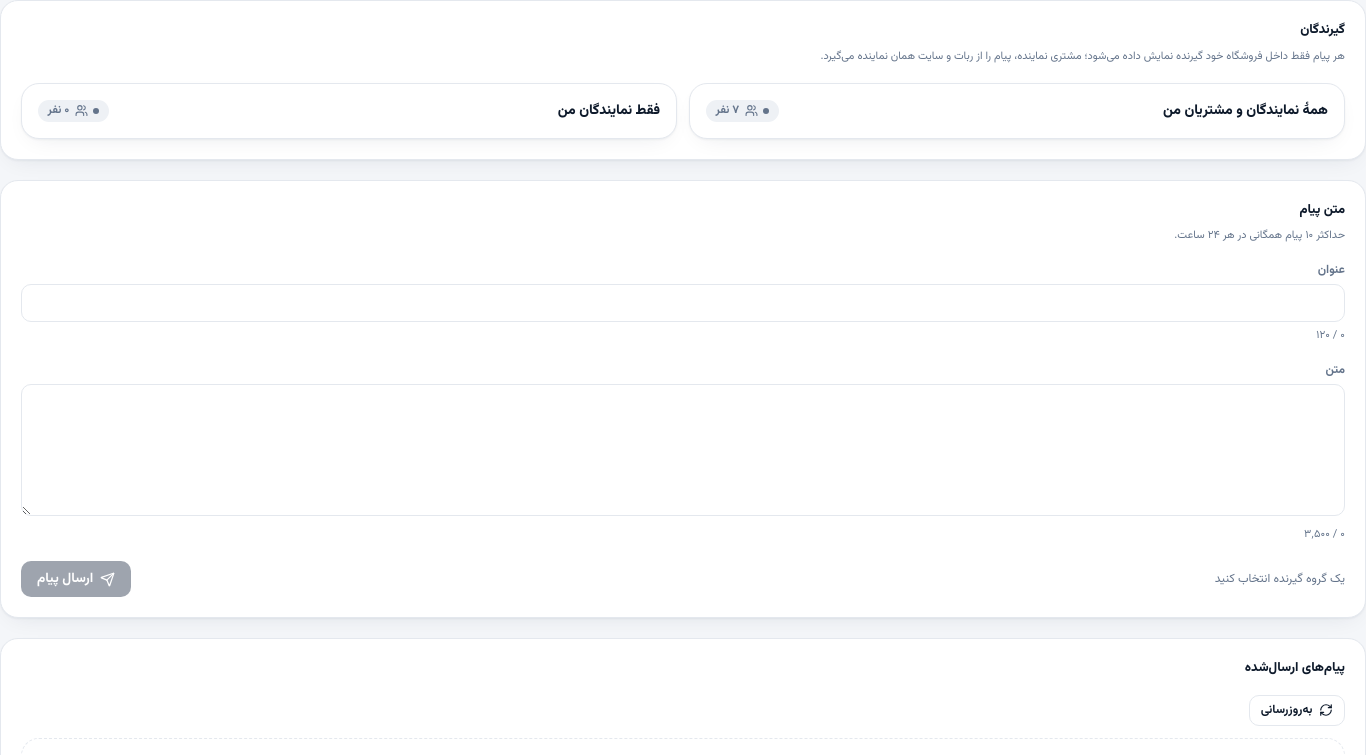
Test case: admin broadcast (پیام همگانی) › shows Core's refusal (e.g. the daily limit) instead of pretending it was sent
The image size is (1366, 755).
Click the radio button labelled "همهٔ نمایندگان و مشتریان من ۷ نفر" at (1246, 111), box top-left (689, 82), bottom-right (1345, 138)
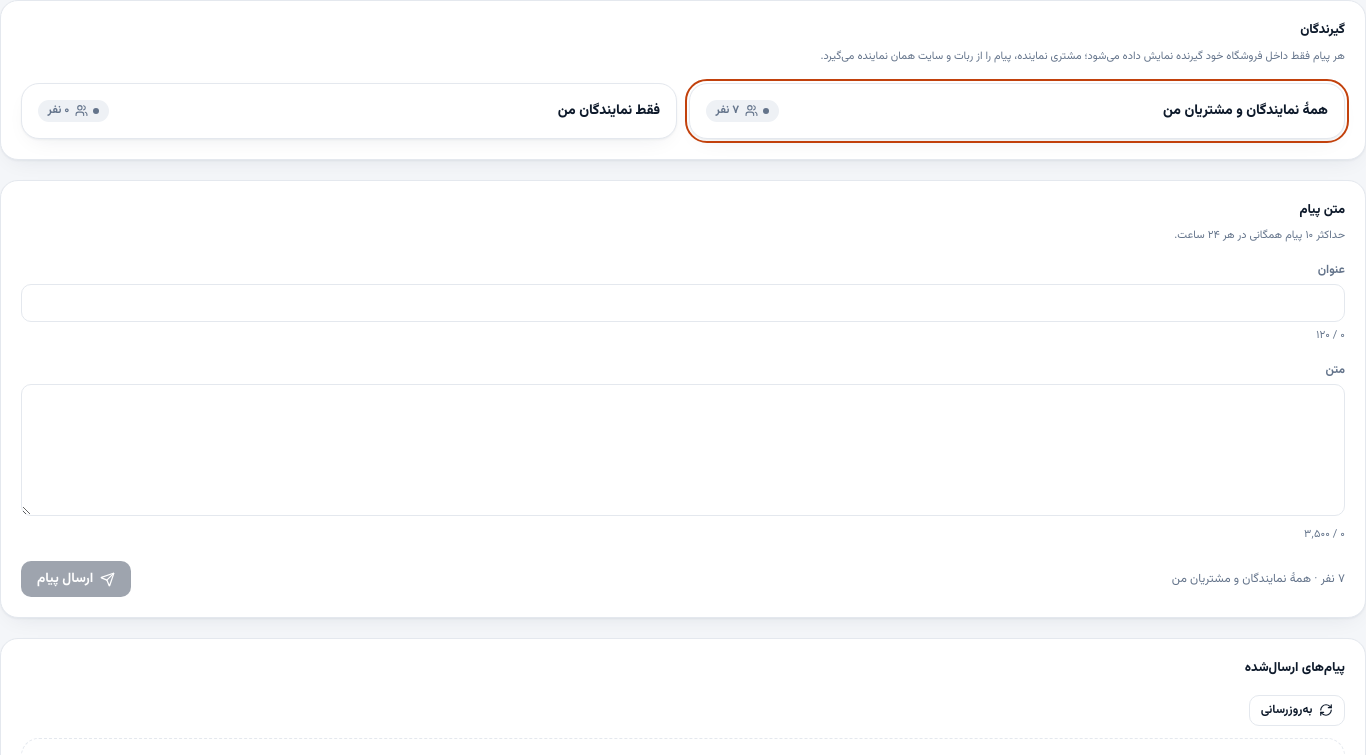
Type "الف" into the field labelled "عنوان ۰ / ۱۲۰" at (683, 303), box top-left (21, 284), bottom-right (1345, 322)
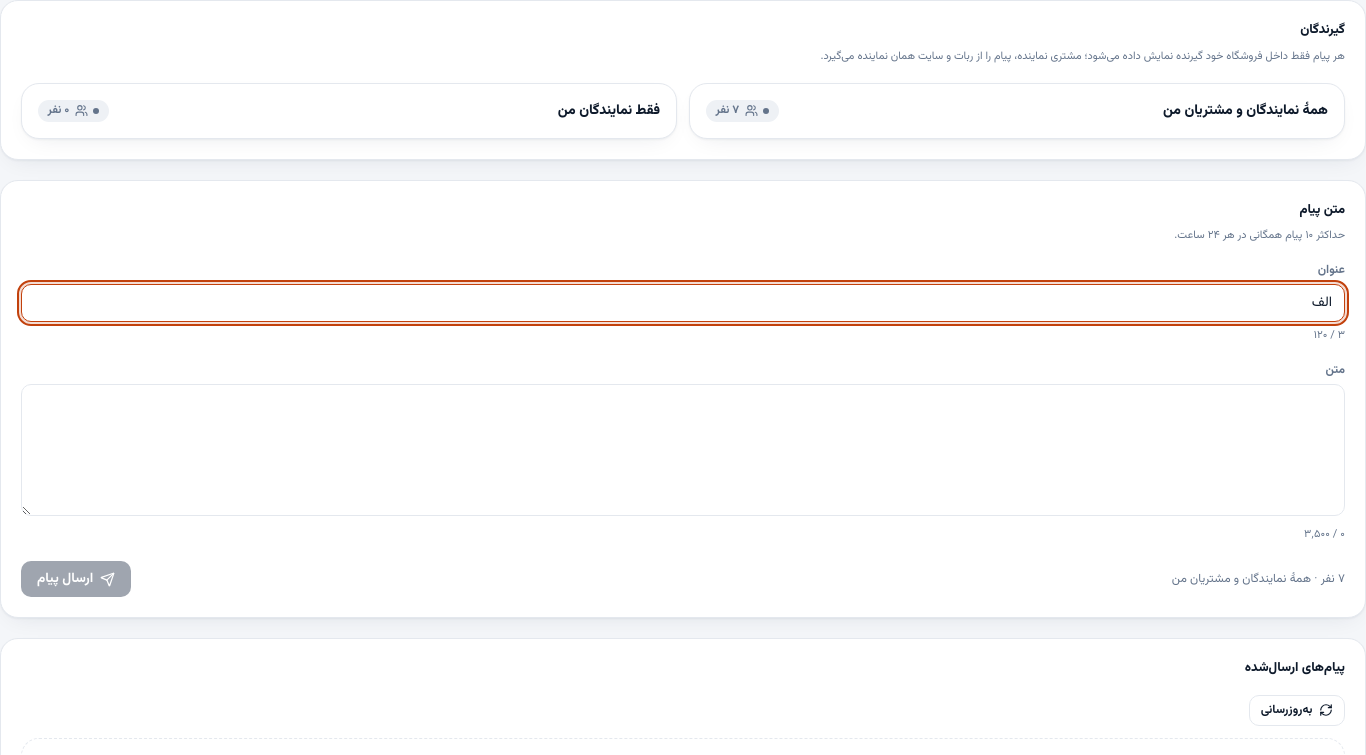
Type "ب" into the text box labelled "متن ۰ / ۳٬۵۰۰" at (683, 450), box top-left (21, 384), bottom-right (1345, 516)
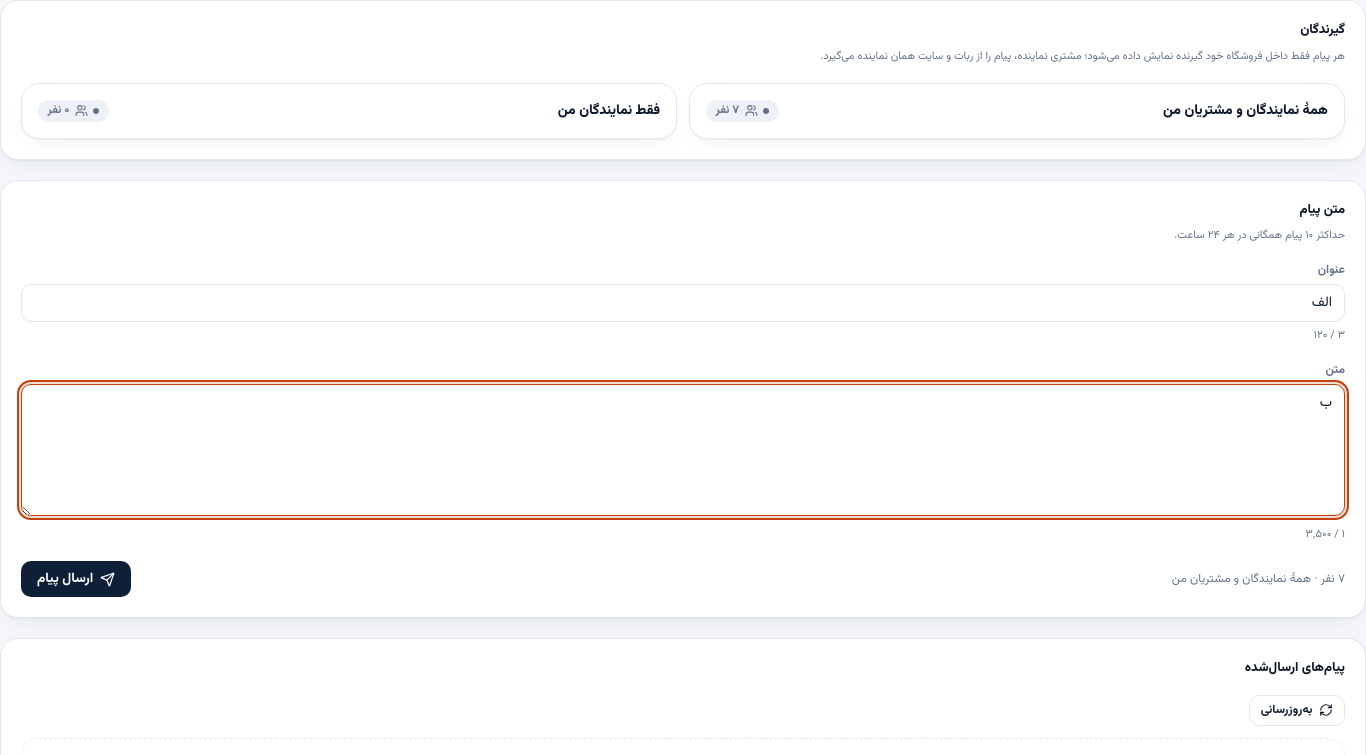
Click the button "ارسال پیام" at (76, 579), box top-left (21, 561), bottom-right (131, 597)
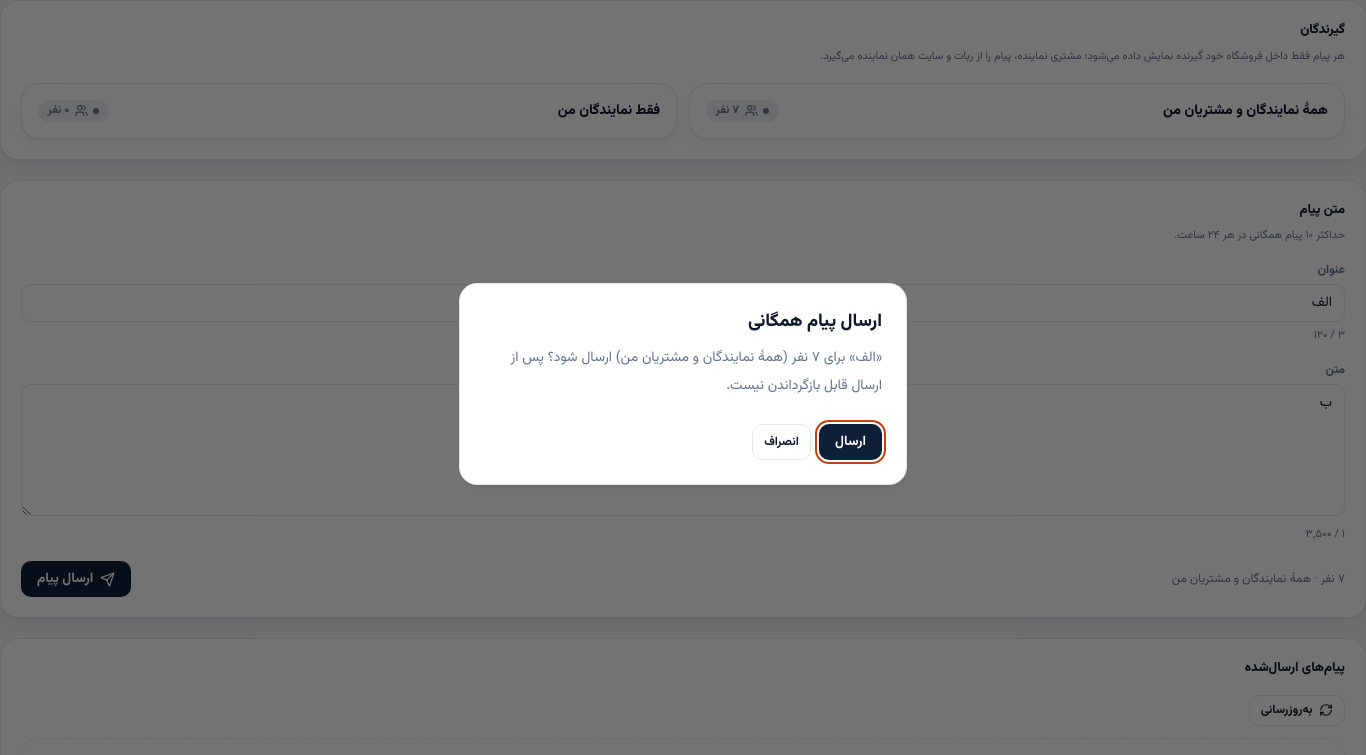
Click the button "ارسال" at (850, 442), box top-left (819, 424), bottom-right (882, 460)
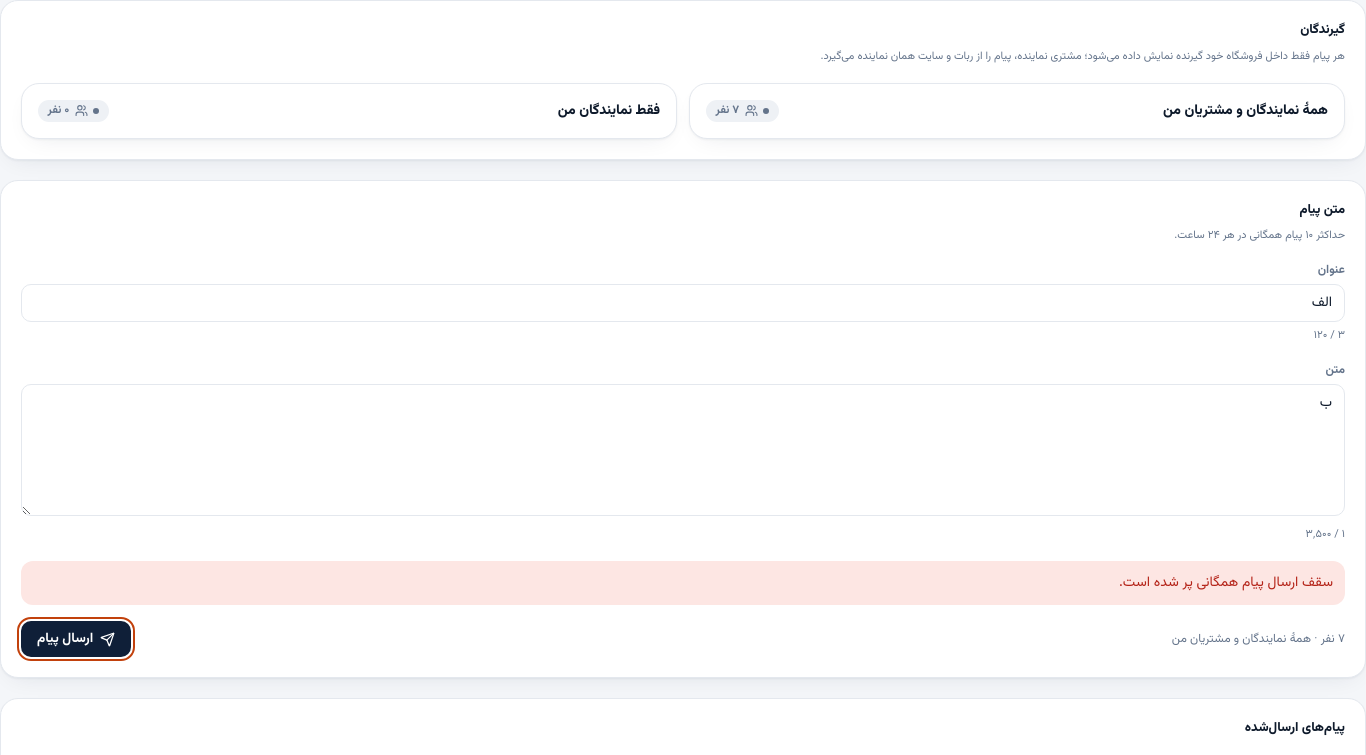
Expected: the text "سقف ارسال پیام همگانی پر شده است." is shown, top-left (21, 561), bottom-right (1345, 605)
